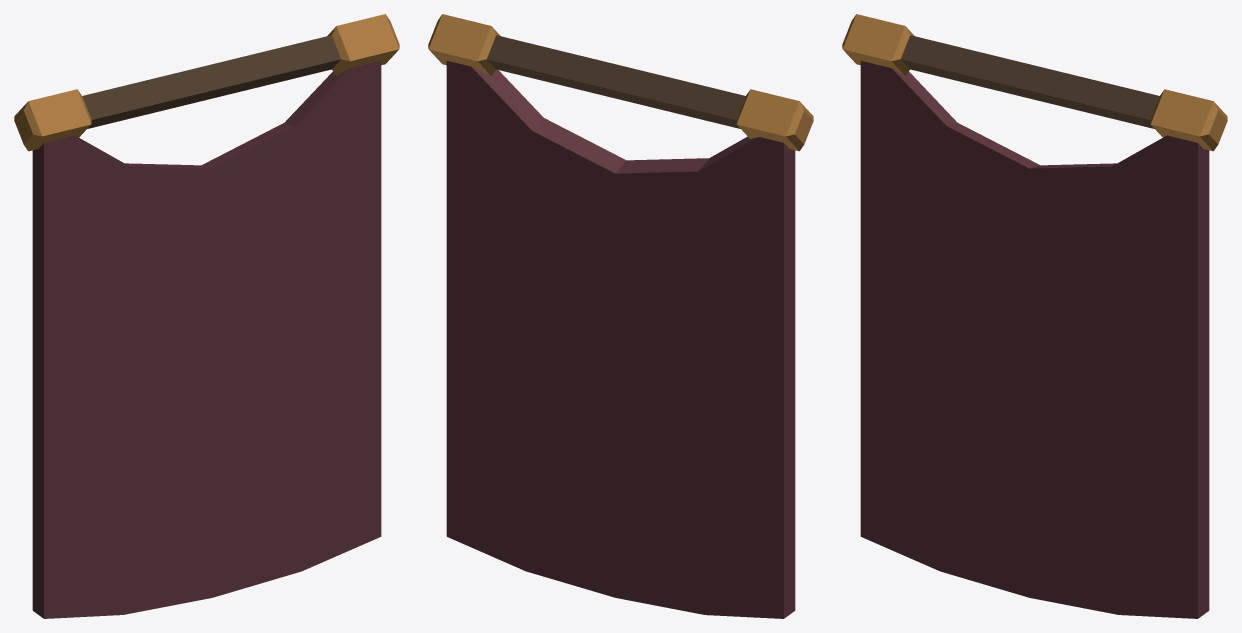
File: SM_Banner_Small_Stick_Empire.fbx
3 renders of one model, left to right at view 1: azimuth 30°, elevation 25°; view 2: azimuth 150°, elevation 25°; view 3: azimuth 330°, elevation 25°, orthographic.
Visible parts, largest first — view 1: SM_Banner_Small_Stick_Empire; view 2: SM_Banner_Small_Stick_Empire; view 3: SM_Banner_Small_Stick_Empire.
Part boxes in pixels (bbox=[...]): SM_Banner_Small_Stick_Empire: bbox=[14, 14, 399, 618]; SM_Banner_Small_Stick_Empire: bbox=[428, 14, 813, 618]; SM_Banner_Small_Stick_Empire: bbox=[842, 14, 1227, 618].
Bounding box in the file's own units: 0.8856 × 1.24 × 0.1161.
